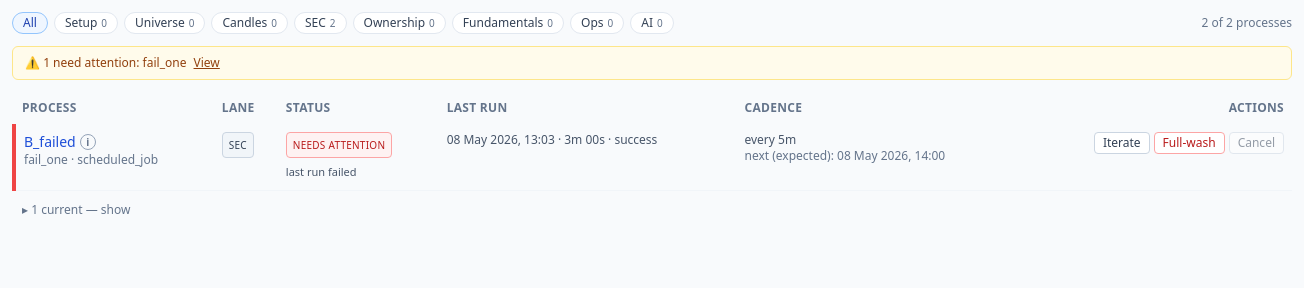
ProcessesTable › sorts failed rows above ok rows
The image size is (1304, 288).
Click the button "▸ 1 current — show": click(76, 210) left=22, top=202, right=130, bottom=218
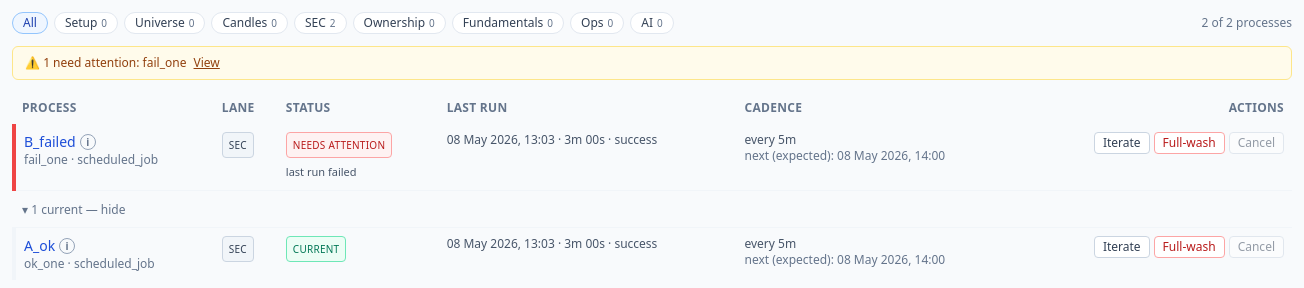
Expected: the link "B_failed" is shown, left=24, top=132, right=76, bottom=152
Expected: the link "A_ok" is shown, left=24, top=236, right=55, bottom=256
